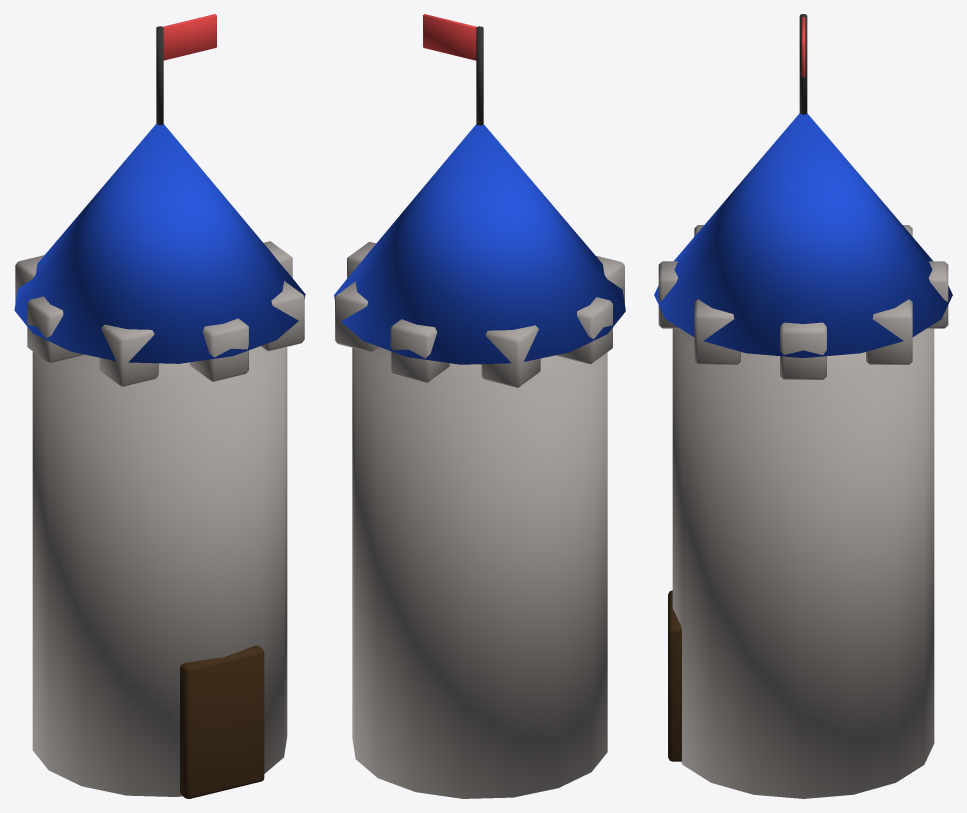
File: tower.glb
The picture shows the model from 3 angles, left to right: view 1: azimuth 30°, elevation 25°; view 2: azimuth 150°, elevation 25°; view 3: azimuth 270°, elevation 25°; orthographic projection.
Parts seen in each view (by area): view 1: Body, Top, Gate, Merlon.005, Merlon.006, FlagP, Merlon.004, Merlon.007, Pole, Merlon.003; view 2: Body, Top, Merlon.002, Merlon.003, FlagP, Merlon.004, Merlon.001, Pole, Merlon.005; view 3: Body, Top, Merlon, Gate, Merlon.001, Merlon.007, Merlon.002, Merlon.006, Pole.
Boxes of the visible parts, box(x1,y1,x2,y2) form: Body: box(32, 346, 287, 796); Top: box(14, 124, 305, 363); Gate: box(180, 645, 264, 798); Merlon.005: box(99, 324, 158, 386); Merlon.006: box(190, 318, 248, 381); FlagP: box(163, 14, 216, 60); Merlon.004: box(27, 296, 83, 363); Merlon.007: box(261, 281, 304, 351); Pole: box(156, 26, 163, 125); Merlon.003: box(15, 255, 44, 302); Body: box(352, 347, 607, 798); Top: box(334, 124, 625, 364); Merlon.002: box(390, 319, 449, 382); Merlon.003: box(481, 325, 540, 387); FlagP: box(423, 14, 476, 60); Merlon.004: box(556, 297, 612, 364); Merlon.001: box(335, 281, 378, 352); Pole: box(476, 26, 483, 125); Merlon.005: box(596, 255, 624, 303); Body: box(672, 328, 934, 798); Top: box(654, 113, 952, 357); Merlon: box(780, 322, 826, 379); Gate: box(668, 590, 681, 761); Merlon.001: box(866, 299, 912, 364); Merlon.007: box(694, 299, 740, 364); Merlon.002: box(927, 261, 948, 328); Merlon.006: box(658, 261, 679, 328); Pole: box(799, 14, 807, 114).
Bounding box in the file's own units: 3.2 × 8.6 × 3.2.
